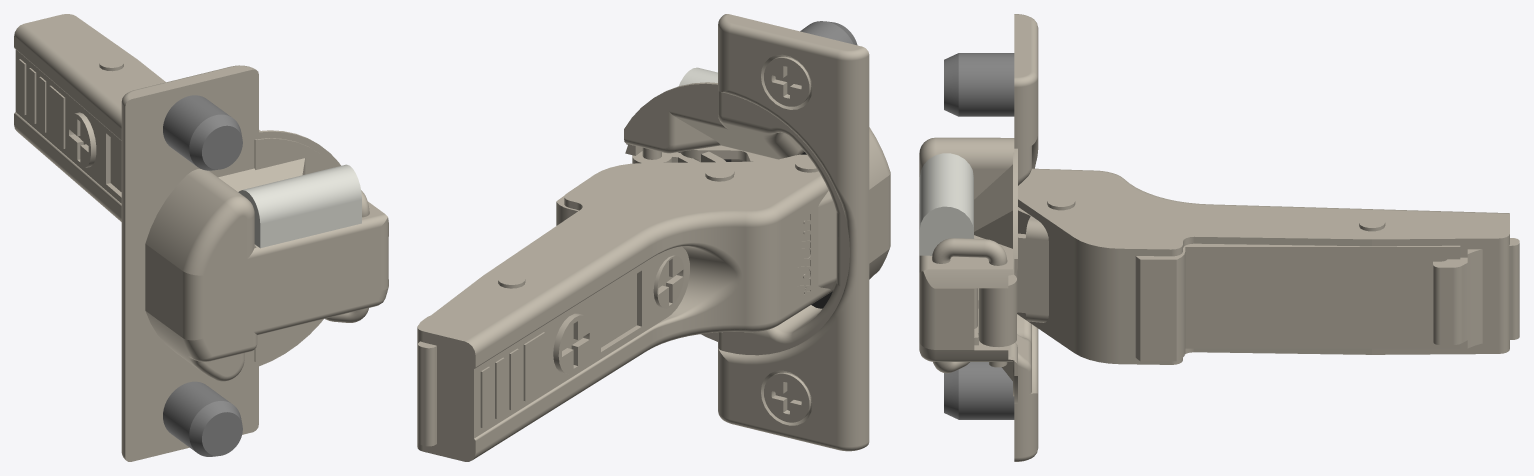
3 views of the same model, side by side, from view 1: azimuth 30°, elevation 25°; view 2: azimuth 150°, elevation 25°; view 3: azimuth 270°, elevation 25° (orthographic). The views are drawn at different scales.
Parts seen in each view (by area): view 1: bau2460033743-1, bau2460631794-1, bau0059100308-2, bau0059100308-1; view 2: bau2460631794-1, bau2460033743-1, bau0059100308-1, bau0019426112-1, bau0059100308-2, bau2460023250-1, bau2460027380-1; view 3: bau2460631794-1, bau0019426112-1, bau2460033743-1, bau2460027380-1, bau0059100308-1, bau0059100308-2.
Boxes of the visible parts, left/top/right/bottom form: bau2460033743-1: left=121, top=65, right=388, bottom=461; bau2460631794-1: left=14, top=14, right=259, bottom=221; bau0059100308-2: left=163, top=381, right=242, bottom=456; bau0059100308-1: left=163, top=95, right=242, bottom=170; bau2460631794-1: left=417, top=154, right=836, bottom=461; bau2460033743-1: left=624, top=14, right=890, bottom=451; bau0059100308-1: left=764, top=21, right=857, bottom=106; bau0019426112-1: left=418, top=195, right=578, bottom=446; bau0059100308-2: left=764, top=372, right=811, bottom=422; bau2460023250-1: left=680, top=145, right=777, bottom=161; bau2460027380-1: left=632, top=151, right=725, bottom=163; bau2460631794-1: left=1017, top=168, right=1509, bottom=364; bau0019426112-1: left=1135, top=238, right=1519, bottom=361; bau2460033743-1: left=919, top=14, right=1038, bottom=461; bau2460027380-1: left=978, top=207, right=1048, bottom=346; bau0059100308-1: left=944, top=53, right=1014, bottom=116; bau0059100308-2: left=944, top=362, right=1014, bottom=419.
Bounding box in the file's own units: 36.9 × 57 × 80.8.
